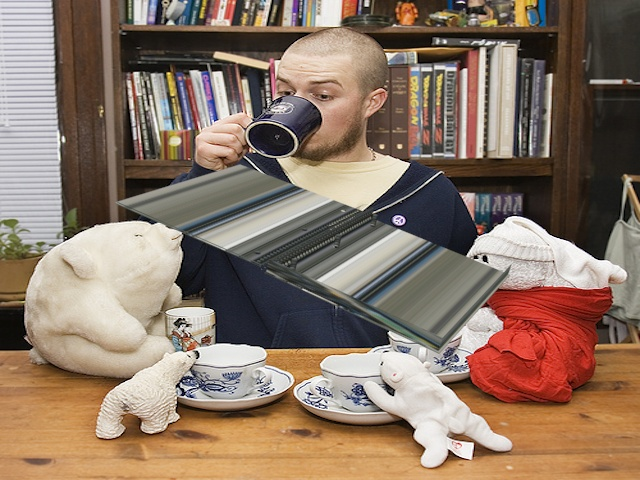paper_notebook: (113, 161, 513, 360)
